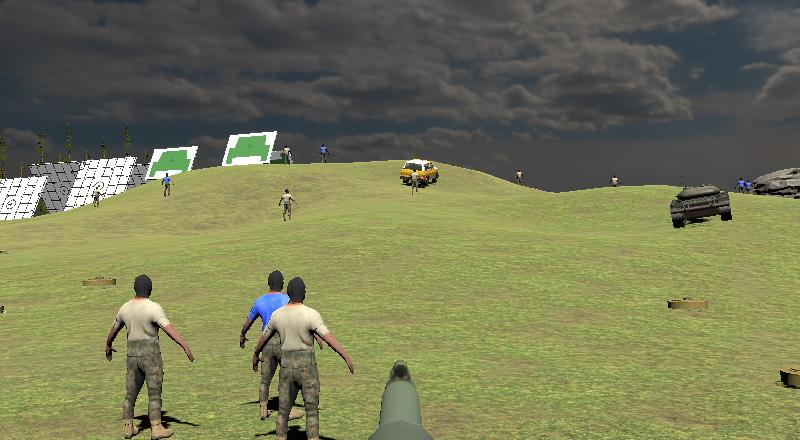Human: (250, 269, 359, 440), (99, 268, 199, 440), (235, 264, 339, 426), (277, 187, 298, 224), (160, 172, 174, 198), (279, 143, 294, 167), (512, 166, 526, 190), (316, 143, 331, 165), (408, 171, 421, 195), (608, 171, 623, 190), (408, 173, 420, 196), (738, 176, 750, 197), (735, 176, 744, 197)
Tank: (668, 177, 735, 231)
car: (397, 157, 442, 187), (79, 271, 120, 292)
